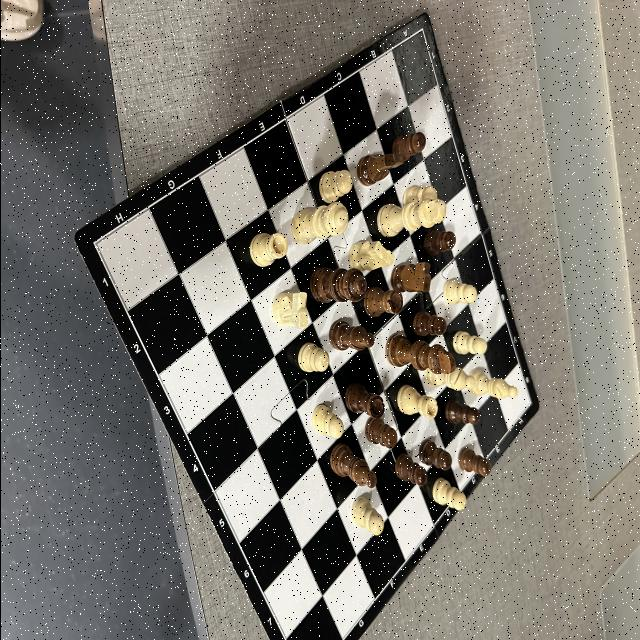Black-Bishop: (329, 444, 376, 488), (328, 321, 374, 350)
Black-King: (385, 332, 455, 373)
Black-Knight: (357, 153, 402, 186), (390, 264, 430, 294)
Black-Pawn: (394, 454, 426, 486), (418, 440, 452, 470), (364, 418, 396, 448), (391, 132, 425, 160), (458, 448, 490, 476), (421, 230, 455, 256), (412, 312, 446, 336), (445, 402, 479, 424)
Black-Queen: (309, 268, 365, 302)
Black-Rook: (344, 384, 384, 419), (364, 288, 402, 316)
White-Bishop: (424, 357, 474, 390), (468, 369, 516, 399)
White-King: (376, 200, 446, 238)
White-Knight: (348, 240, 393, 272), (270, 292, 308, 328)
White-Pawn: (351, 498, 384, 536), (431, 478, 465, 510), (311, 404, 343, 438), (318, 171, 351, 203), (297, 342, 328, 373), (401, 187, 436, 210), (443, 280, 476, 304), (452, 332, 487, 354)
White-Queen: (290, 202, 348, 244)
White-Rook: (396, 384, 438, 418), (249, 233, 287, 267)
